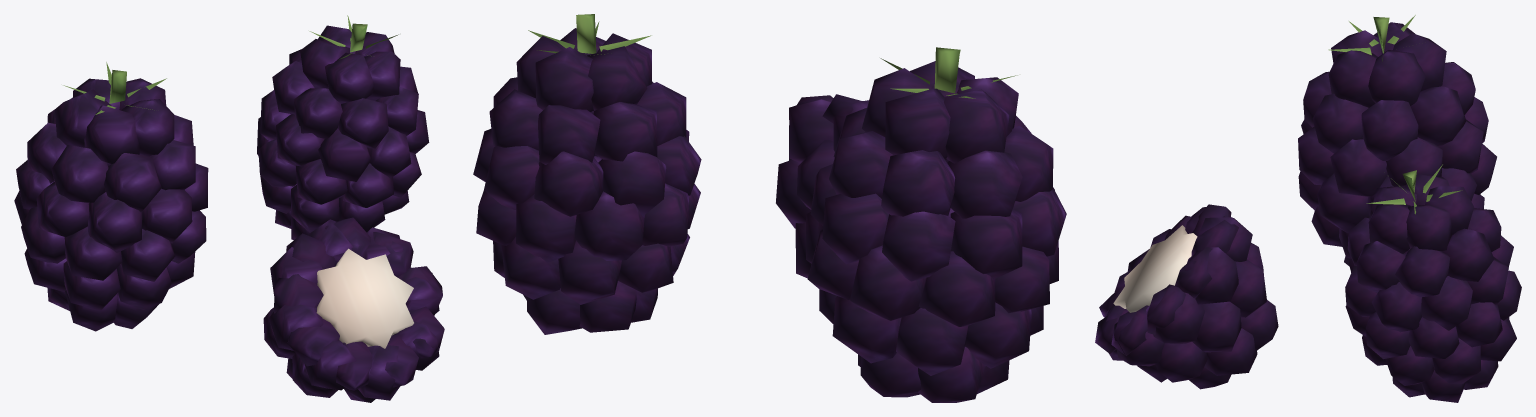
The model's file is NP_Blackberry_Harvest_LOD1.fbx.
3 renders of one model, left to right at view 1: azimuth 30°, elevation 25°; view 2: azimuth 150°, elevation 25°; view 3: azimuth 270°, elevation 25°, orthographic. The views are drawn at different scales.
Parts seen in each view (by area): view 1: NP_Blackberry_Harvest; view 2: NP_Blackberry_Harvest; view 3: NP_Blackberry_Harvest.
Boxes of the visible parts, x1,y1,x2,y2 form: NP_Blackberry_Harvest: (14, 15, 444, 402); NP_Blackberry_Harvest: (473, 14, 1066, 402); NP_Blackberry_Harvest: (1095, 15, 1521, 402).
Size of the model in its own units: 45.76 by 31.73 by 41.27.
Materials: 1 (1 with a texture image).
